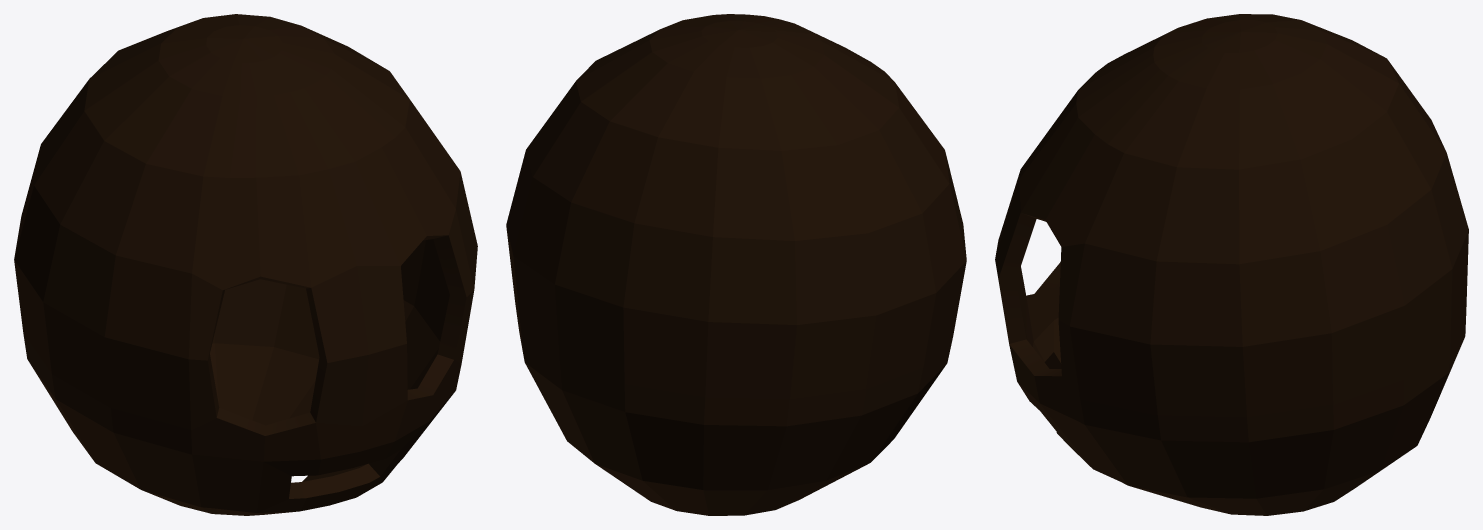
File: Cagoule.fbx
The picture shows the model from 3 angles, left to right: view 1: azimuth 30°, elevation 25°; view 2: azimuth 150°, elevation 25°; view 3: azimuth 270°, elevation 25°; orthographic projection.
Parts seen in each view (by area): view 1: cagoule; view 2: cagoule; view 3: cagoule.
Boxes of the visible parts, x1=… form: cagoule: x1=14, y1=14, x2=477, y2=515; cagoule: x1=506, y1=14, x2=966, y2=515; cagoule: x1=995, y1=14, x2=1468, y2=515.
Size of the model in its own units: 13.64 by 14.47 by 13.84.
